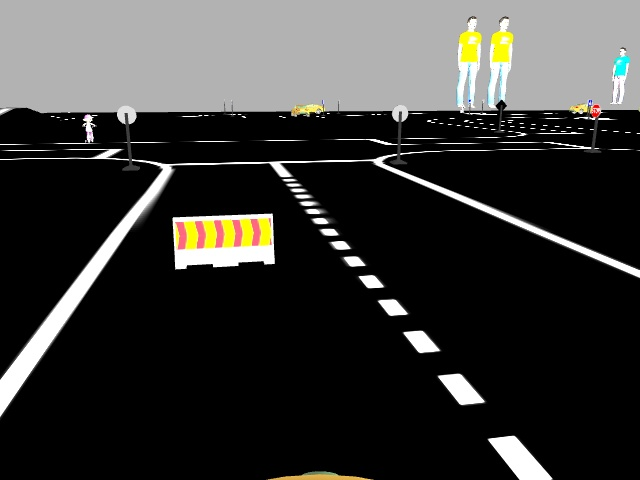ClosedRoadStand: (173, 217, 273, 264)
